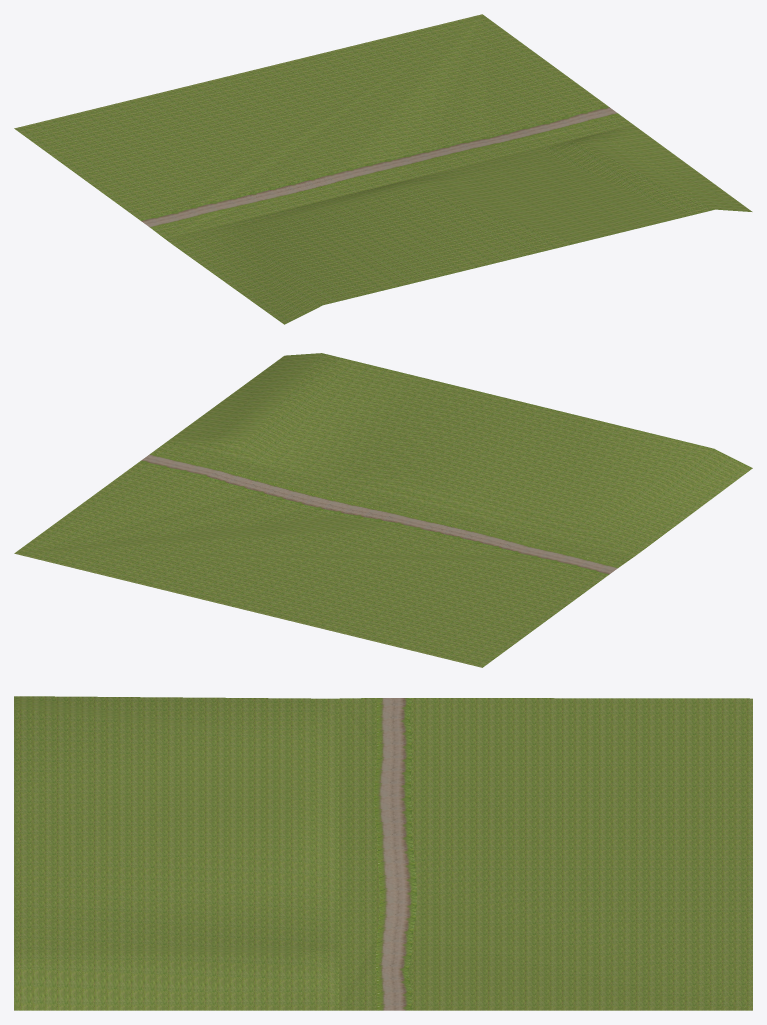
File: road5.FBX
3 views of the same model, one above another, from view 1: azimuth 30°, elevation 25°; view 2: azimuth 150°, elevation 25°; view 3: azimuth 270°, elevation 25° (orthographic). The views are drawn at different scales.
Parts seen in each view (by area): view 1: road3; view 2: road3; view 3: road3.
Boxes of the visible parts, bbox=[...] form: road3: bbox=[14, 14, 752, 324]; road3: bbox=[14, 353, 752, 667]; road3: bbox=[14, 696, 752, 1010].
Bounding box in the file's own units: 12000 × 351 × 12000.
